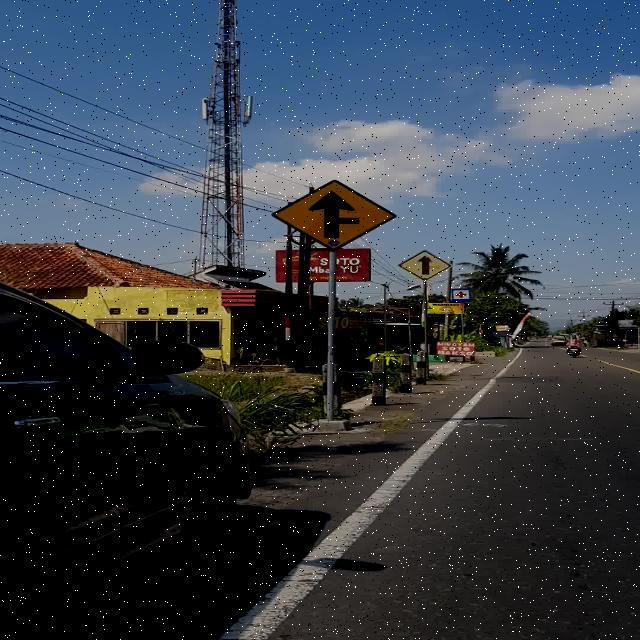Persimpangan 3 Prioritas Kanan: (271, 179, 398, 252)
